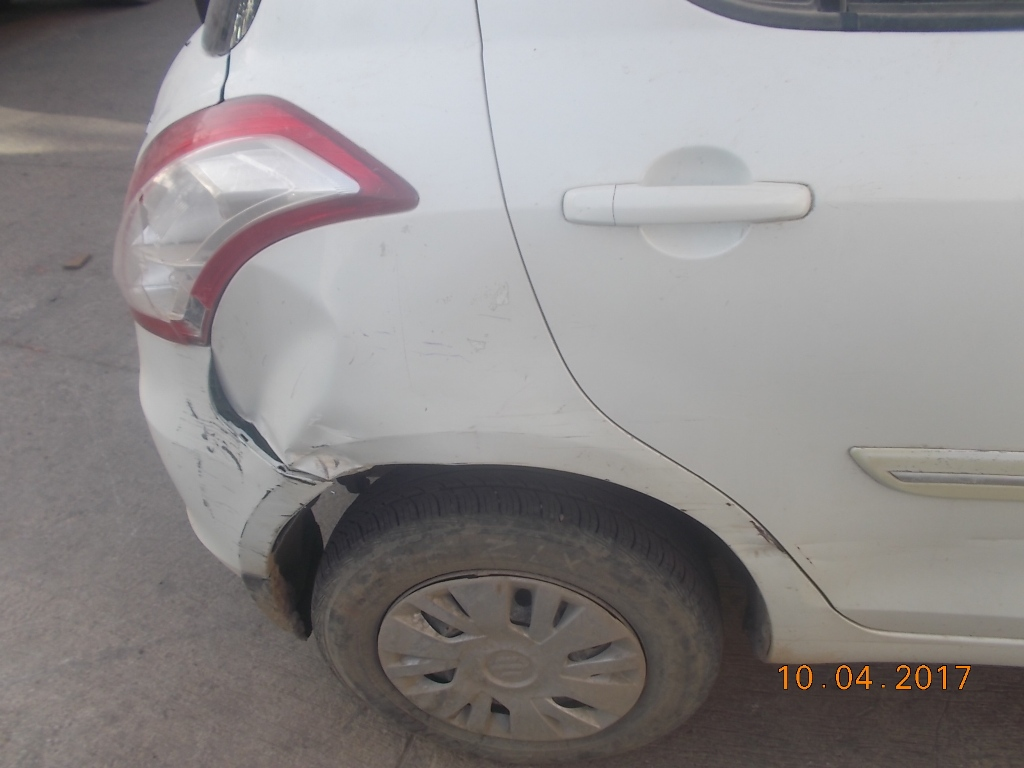Dent: (230, 271, 347, 401)
Dislocation: (235, 419, 291, 473), (204, 343, 225, 422)
